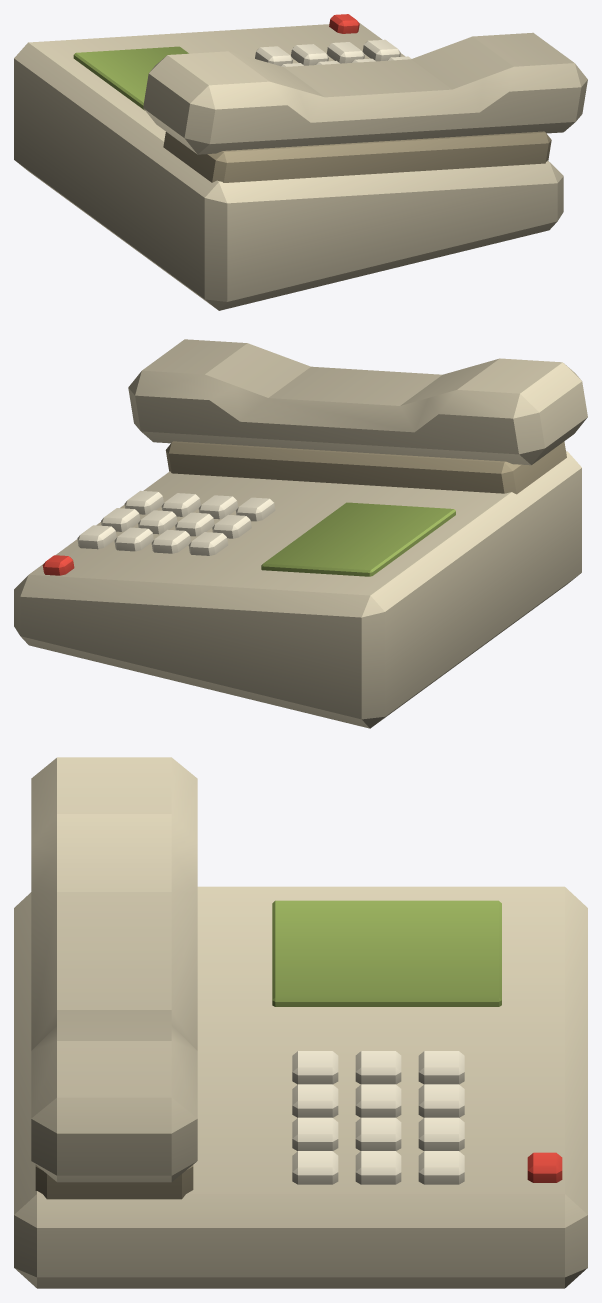
File: Desk_Phone.fbx
The picture shows the model from 3 angles, top to bottom: view 1: azimuth 30°, elevation 25°; view 2: azimuth 150°, elevation 25°; view 3: azimuth 270°, elevation 25°; orthographic projection. The views are drawn at different scales.
Parts seen in each view (by area): view 1: Desk_Phone; view 2: Desk_Phone; view 3: Desk_Phone.
Part boxes in pixels (bbox=[...]): Desk_Phone: bbox=[14, 14, 587, 310]; Desk_Phone: bbox=[14, 339, 587, 728]; Desk_Phone: bbox=[14, 757, 587, 1288].
Size of the model in its own units: 1.01 by 0.5293 by 0.9.
Materials: 1 (1 with a texture image).
